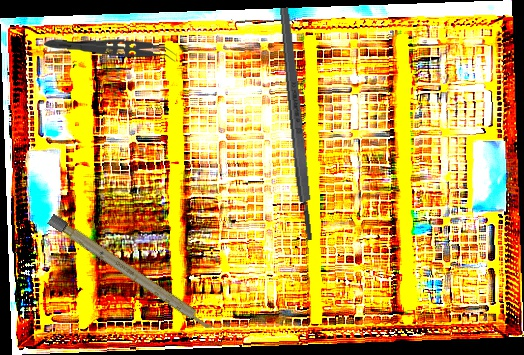Scalpel Handle: (47, 213, 216, 333), (277, 6, 317, 242)
Tissue Forceps: (43, 36, 177, 64)
